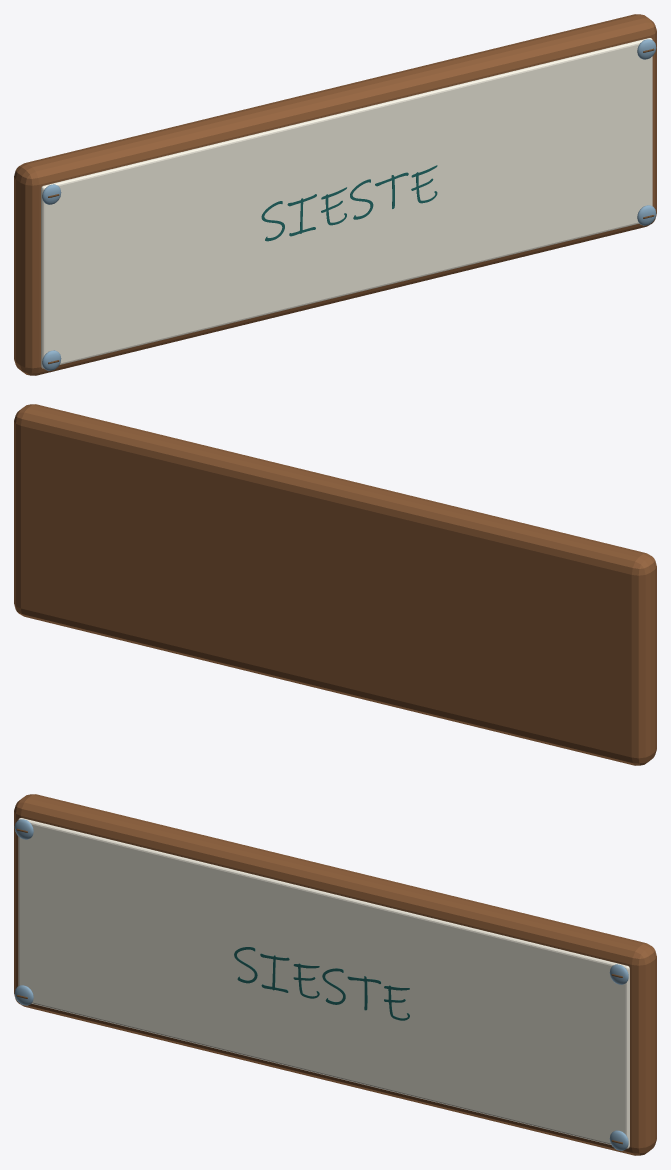
Rendered from nap_sign.glb.
3 renders of one model, top to bottom at view 1: azimuth 30°, elevation 25°; view 2: azimuth 150°, elevation 25°; view 3: azimuth 330°, elevation 25°, orthographic.
Visible parts, largest first — view 1: Sign_cream_face, Sign_timber, Flat_sign; view 2: Sign_timber; view 3: Sign_cream_face, Sign_timber, Flat_sign.
Boxes of the visible parts, x1,y1,x2,y2 form: Sign_cream_face: (41, 38, 652, 368); Sign_timber: (14, 14, 656, 375); Flat_sign: (261, 165, 437, 241); Sign_timber: (14, 404, 656, 765); Sign_cream_face: (18, 818, 629, 1148); Sign_timber: (14, 794, 656, 1155); Flat_sign: (234, 947, 409, 1020).
Size of the model in its own units: 0.8 by 0.25 by 0.0554.
